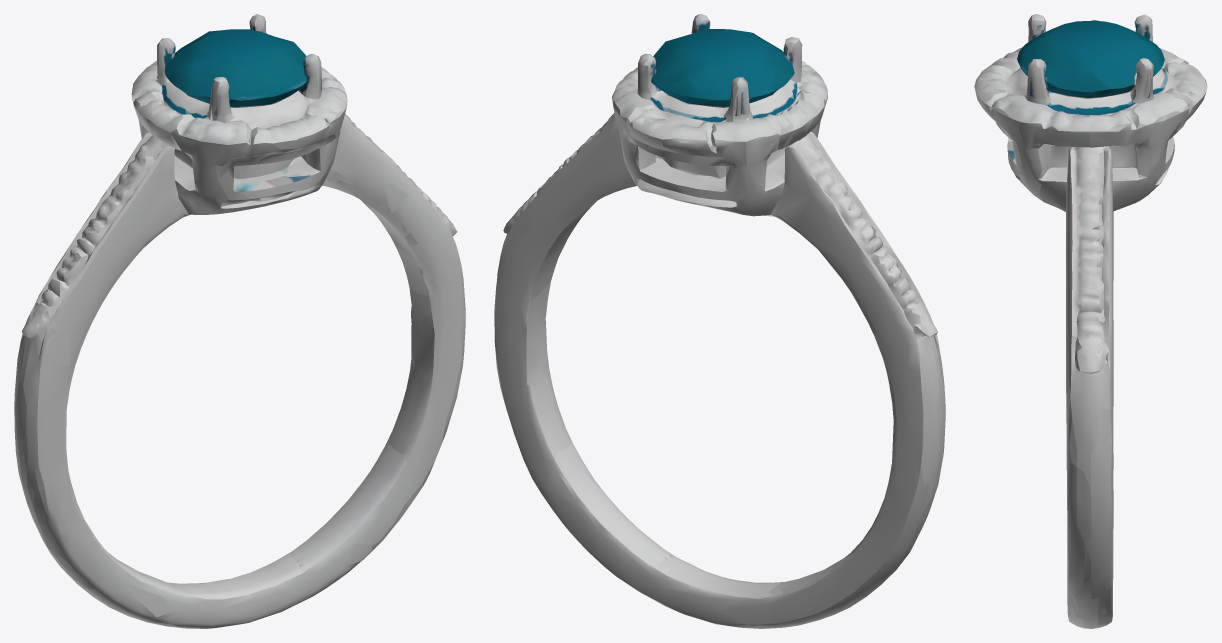
Rendered from google_images_ring_3.glb.
The picture shows the model from 3 angles, left to right: view 1: azimuth 30°, elevation 25°; view 2: azimuth 150°, elevation 25°; view 3: azimuth 270°, elevation 25°; orthographic projection.
Visible parts, largest first — view 1: google_images_ring_3; view 2: google_images_ring_3; view 3: google_images_ring_3.
Boxes of the visible parts, x1,y1,x2,y2 form: google_images_ring_3: (14, 14, 465, 628); google_images_ring_3: (494, 14, 945, 628); google_images_ring_3: (974, 14, 1207, 628).
Size of the model in its own units: 0.8098 by 1 by 0.3722.
1 material, 1 textured.
